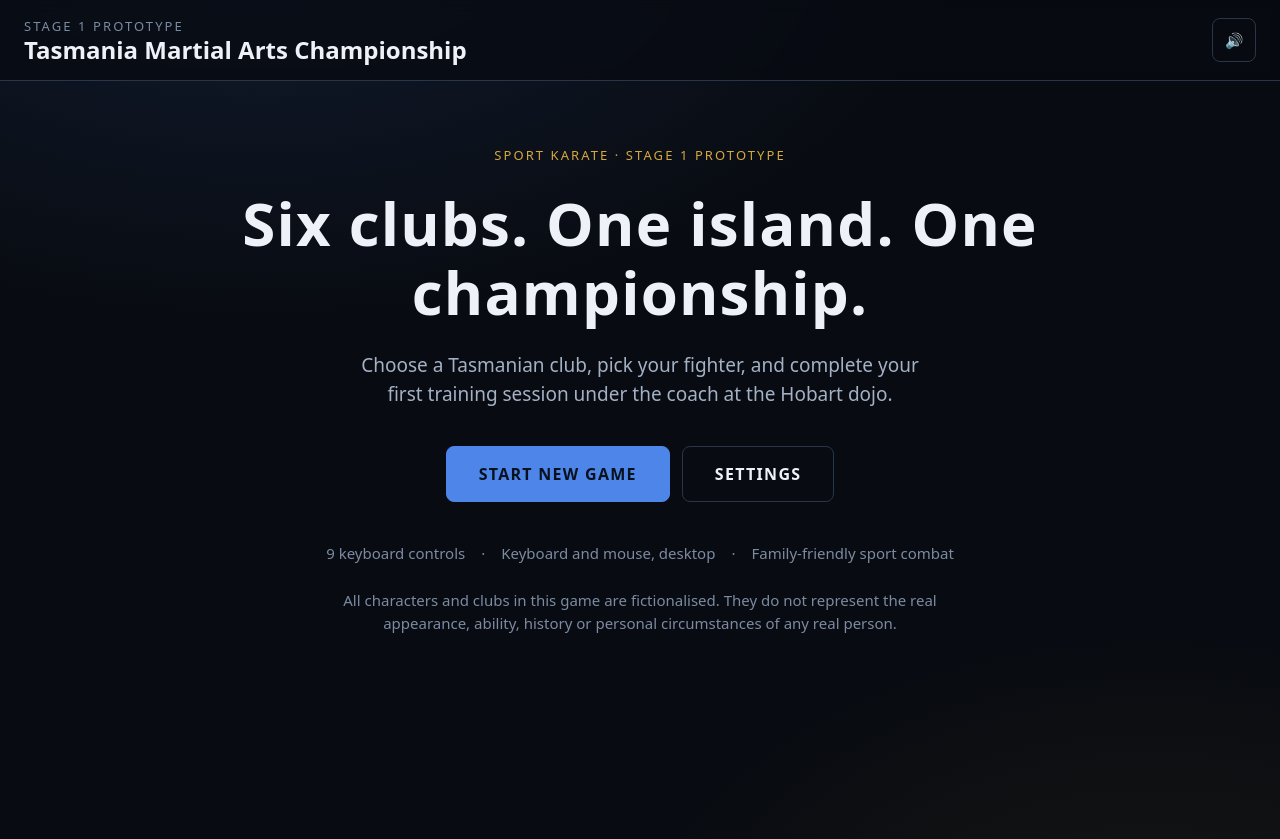
map screen › advances to the team profile when a club is confirmed
The width and height of the screenshot is (1280, 839).
Click the button with test id "start-game" at (558, 474), box [446, 446, 670, 502]
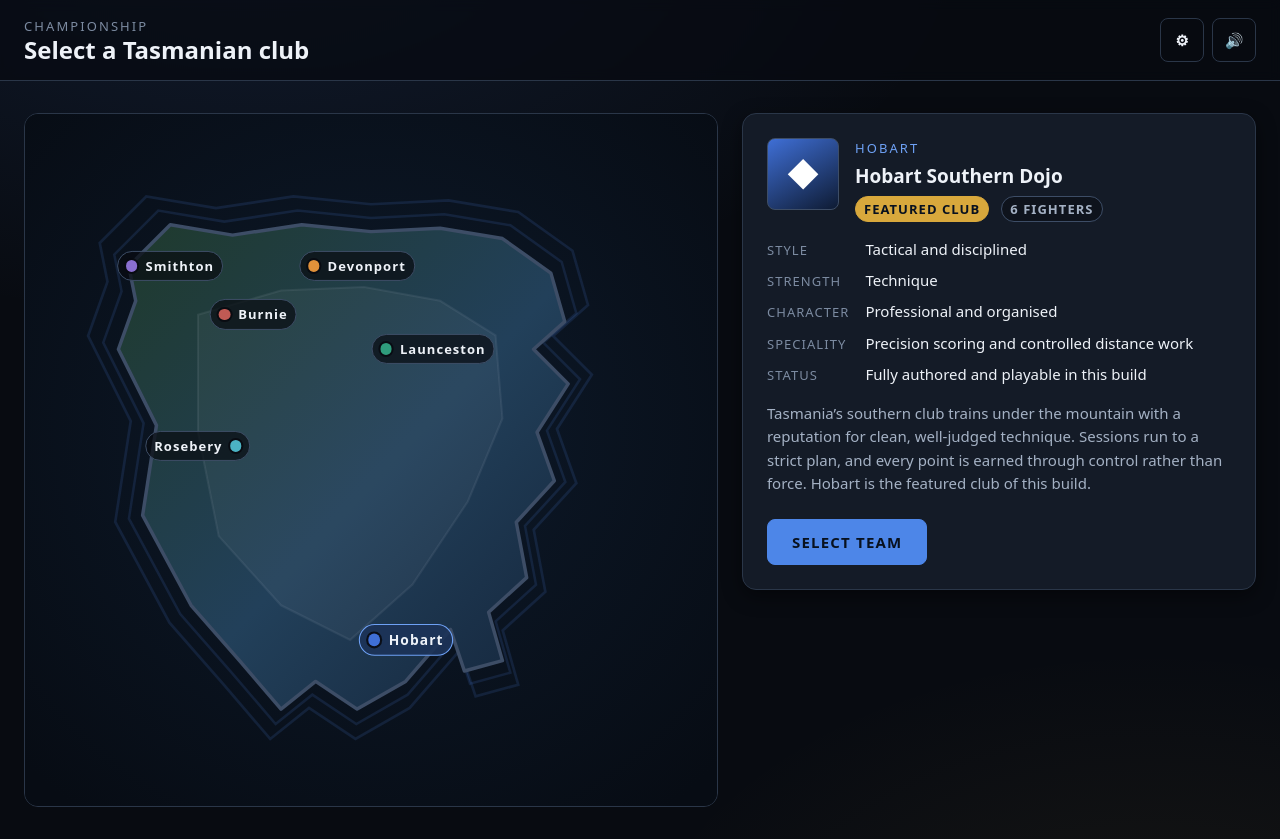
Click the button with test id "select-team" at (847, 542), box [767, 519, 928, 565]
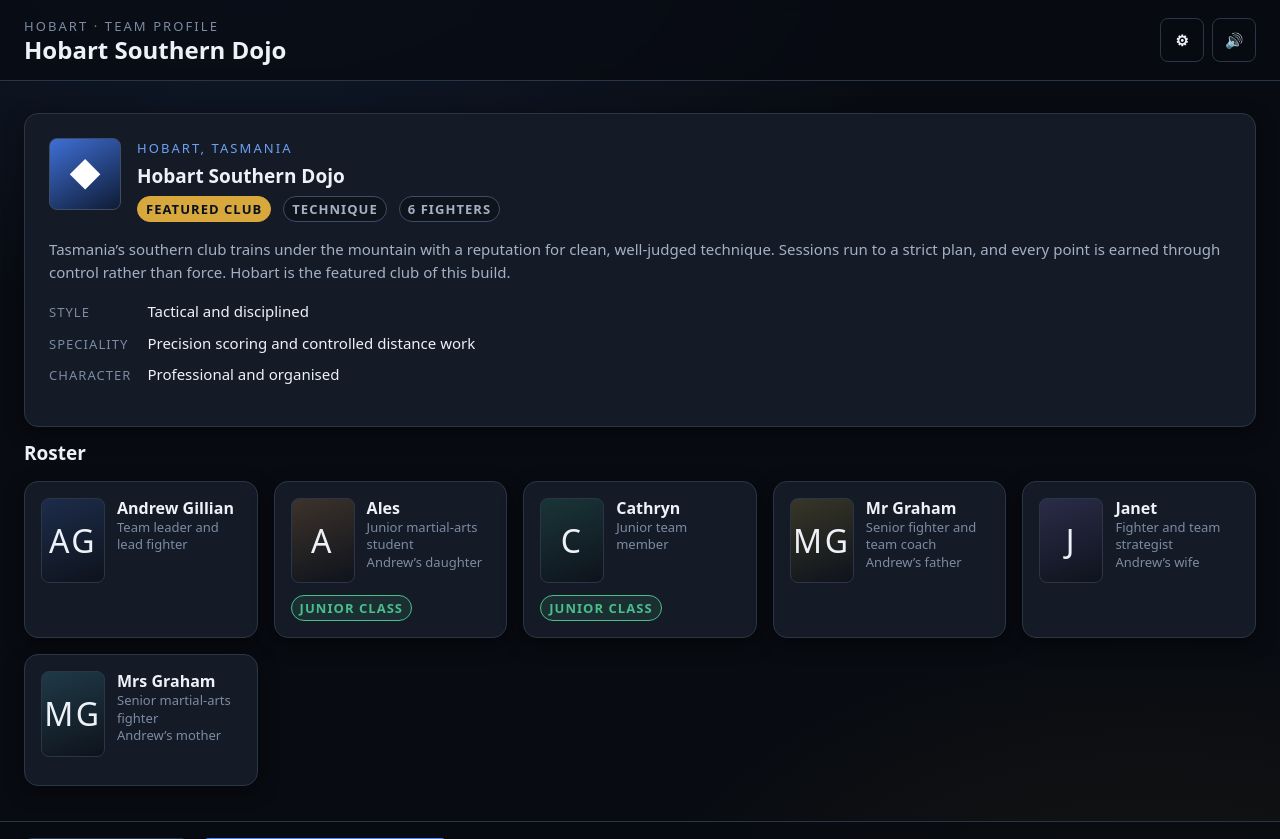
Now the list with test id "team-roster" is shown, box [24, 481, 1256, 786]
